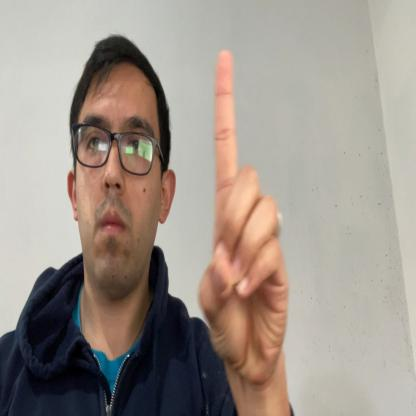D: (198, 51, 289, 392)
